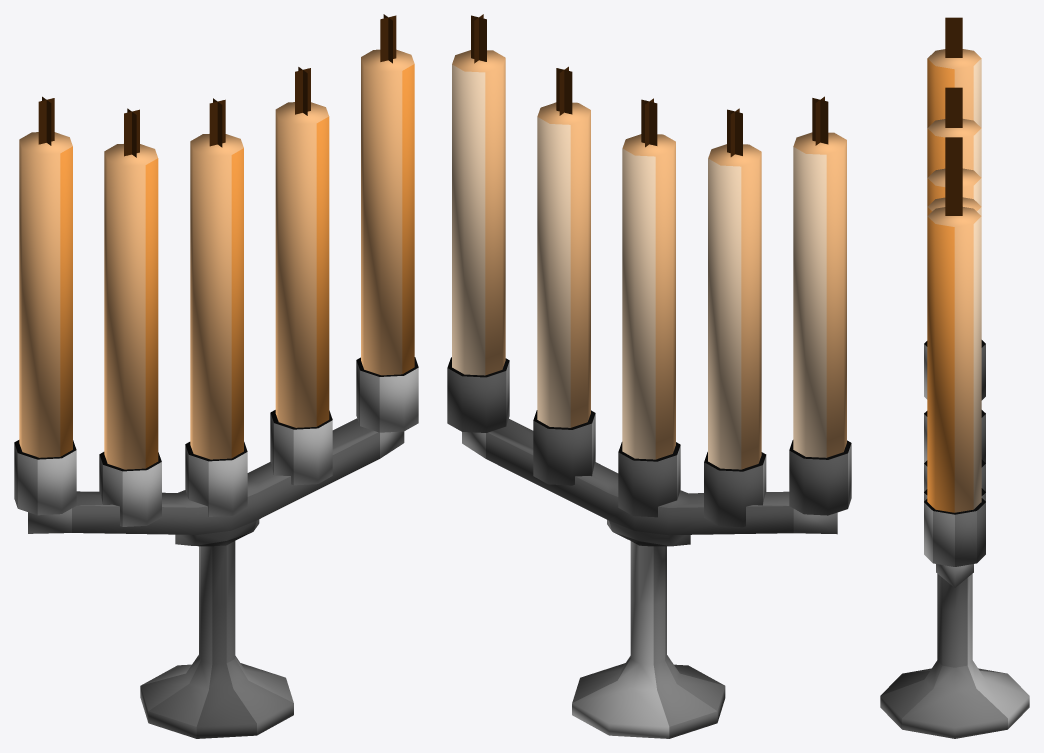
The model's file is spent_light_997x03.gltf.
The picture shows the model from 3 angles, left to right: view 1: azimuth 30°, elevation 25°; view 2: azimuth 150°, elevation 25°; view 3: azimuth 270°, elevation 25°; orthographic projection. The views are drawn at different scales.
Visible parts, largest first — view 1: spent_light_997x03; view 2: spent_light_997x03; view 3: spent_light_997x03.
Boxes of the visible parts, <box> form: spent_light_997x03: <box>14,14,418,738</box>; spent_light_997x03: <box>447,14,851,738</box>; spent_light_997x03: <box>880,17,1029,738</box>.
Size of the model in its own units: 0.6974 by 1.09 by 0.2414.
Materials: 1 (1 with a texture image).
